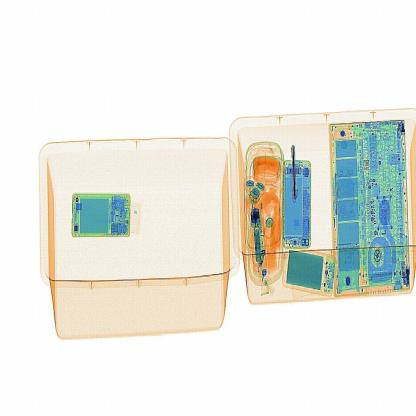knife: (288, 145, 300, 204)
